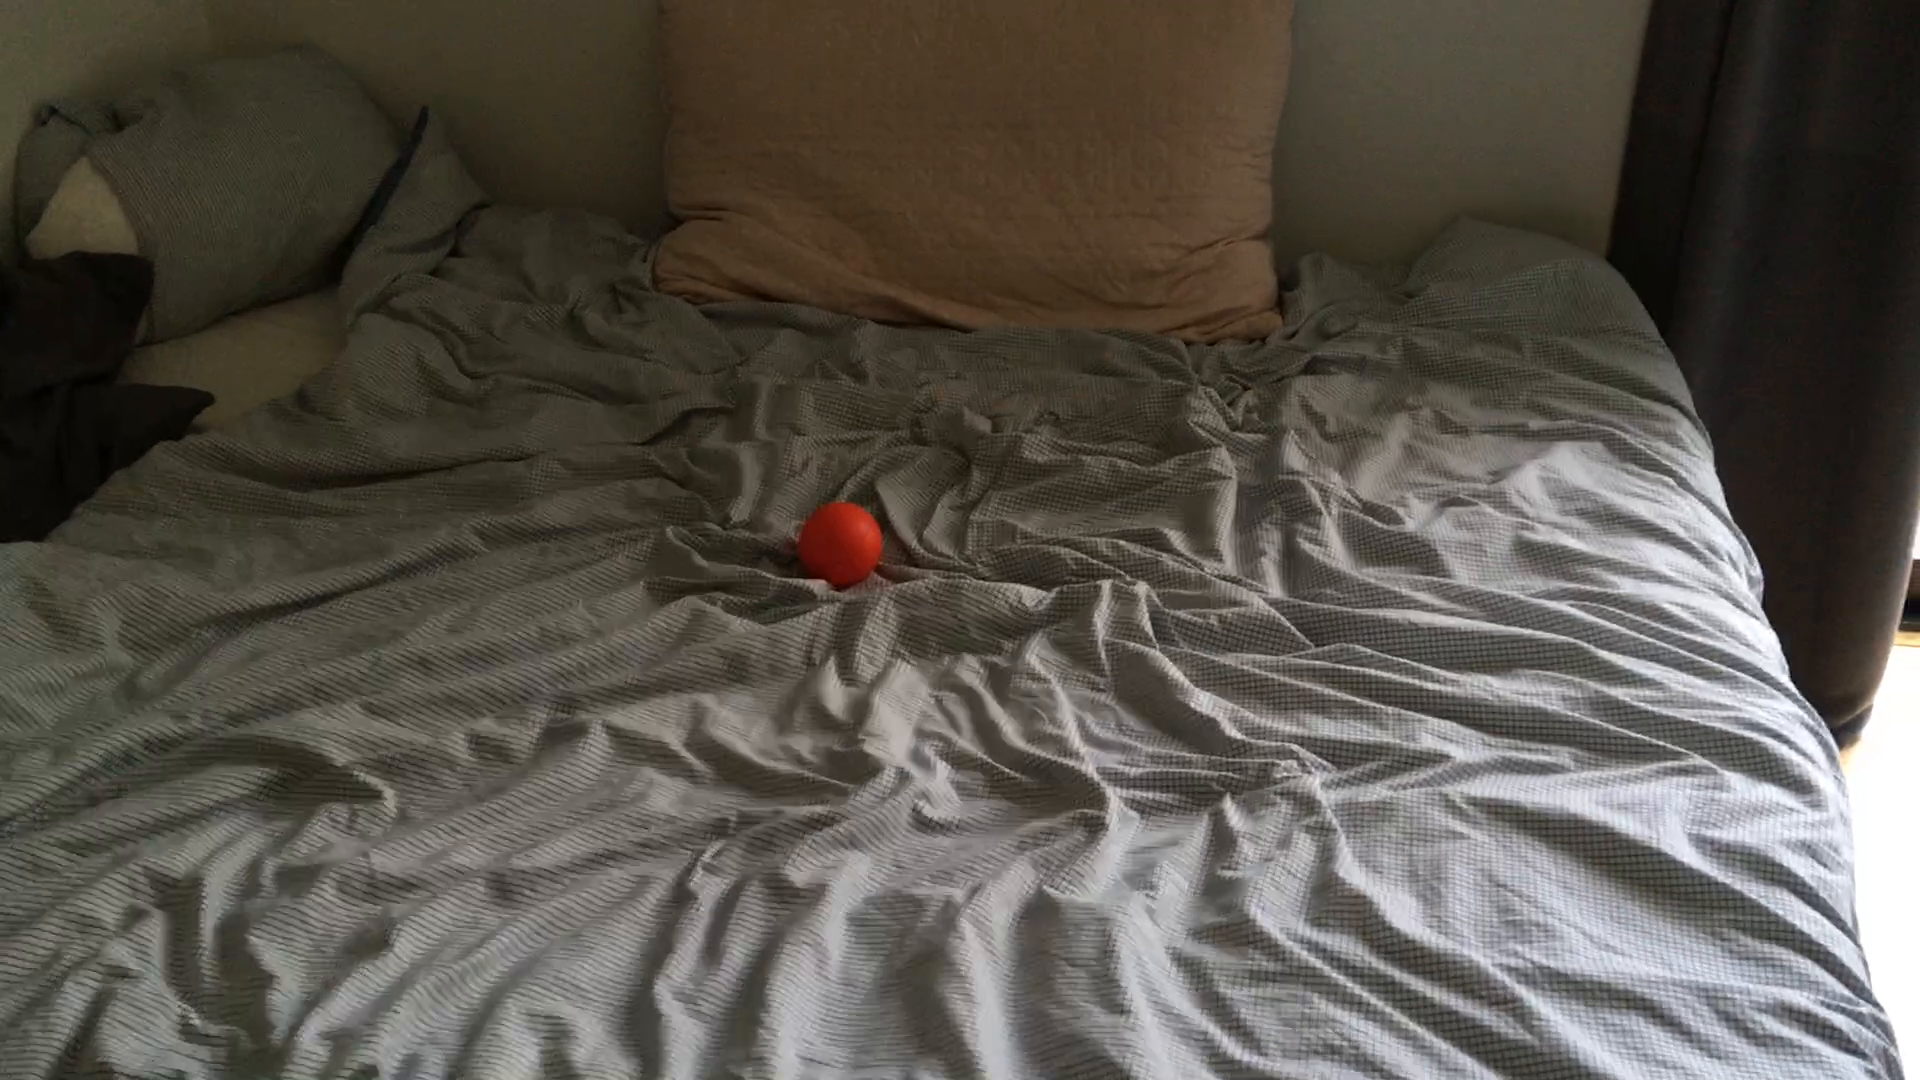Ball: (806, 498, 881, 585)
